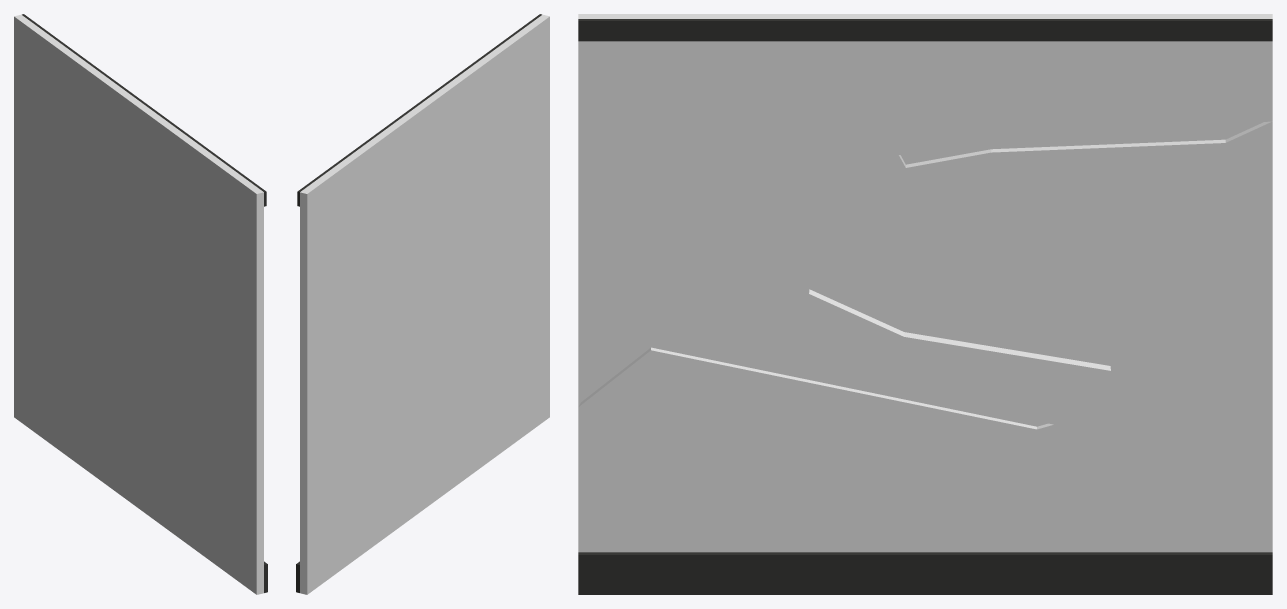
Rendered from ParedeLowPoly02.fbx.
The picture shows the model from 3 angles, left to right: view 1: azimuth 30°, elevation 25°; view 2: azimuth 150°, elevation 25°; view 3: azimuth 270°, elevation 25°; orthographic projection. The views are drawn at different scales.
Parts seen in each view (by area): view 1: Cube; view 2: Cube; view 3: Cube.
Boxes of the visible parts, x1=… form: Cube: x1=14, y1=14, x2=267, y2=594; Cube: x1=296, y1=14, x2=549, y2=594; Cube: x1=578, y1=14, x2=1272, y2=594.
Size of the model in its own units: 36.83 by 1262 by 1385.
